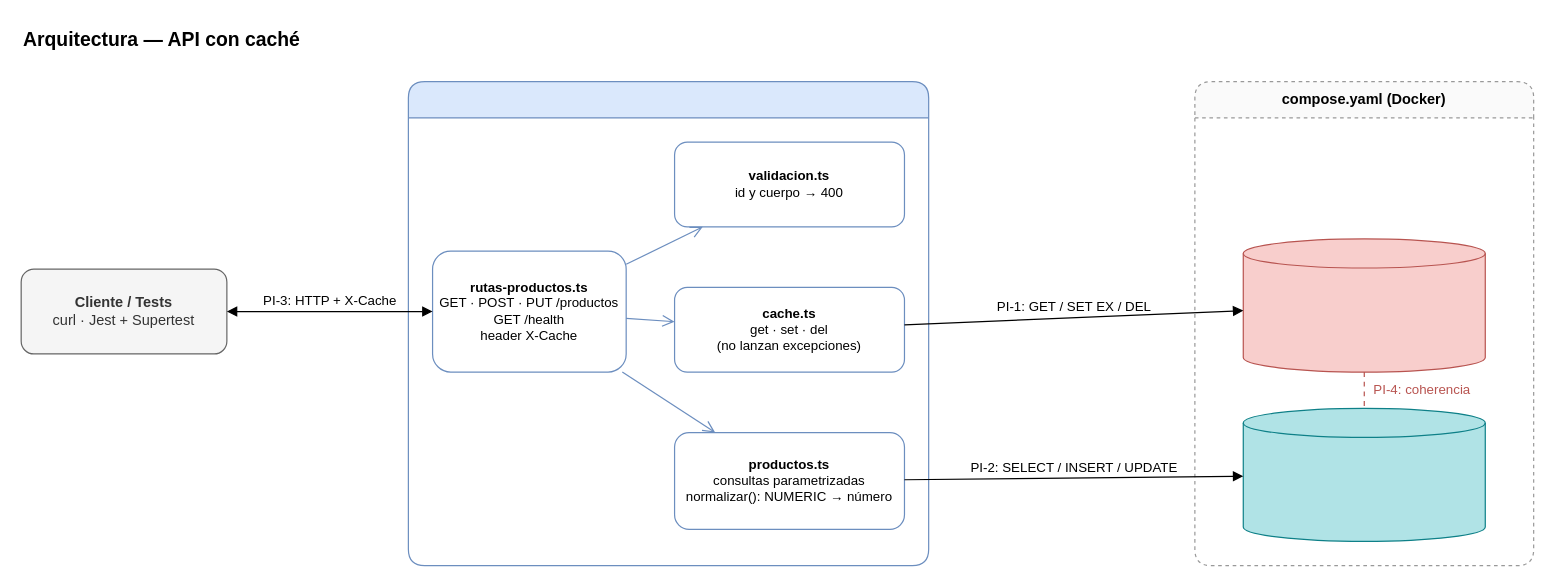
Image size: 1555x587. Some labels were removed from this diagram. Each missing label, with the box of its shape:
API REST · Node 24 + Express 5 · :3000: (407, 80, 929, 566)
PostgreSQL 17 · :5433 tabla productos (fuente de verdad): (1242, 407, 1485, 541)
Redis 7.4 · :6380 llave producto:{id} con TTL sin persistencia · LRU 64 MB: (1242, 238, 1485, 372)
